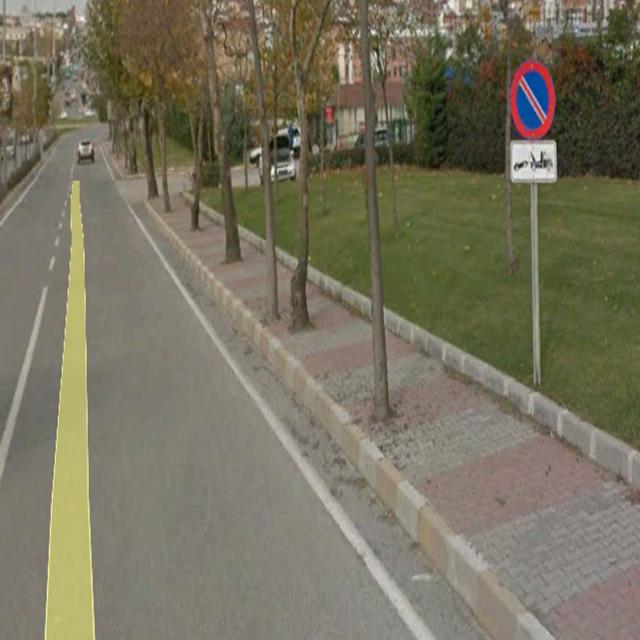parkyasak: (510, 59, 556, 138)
